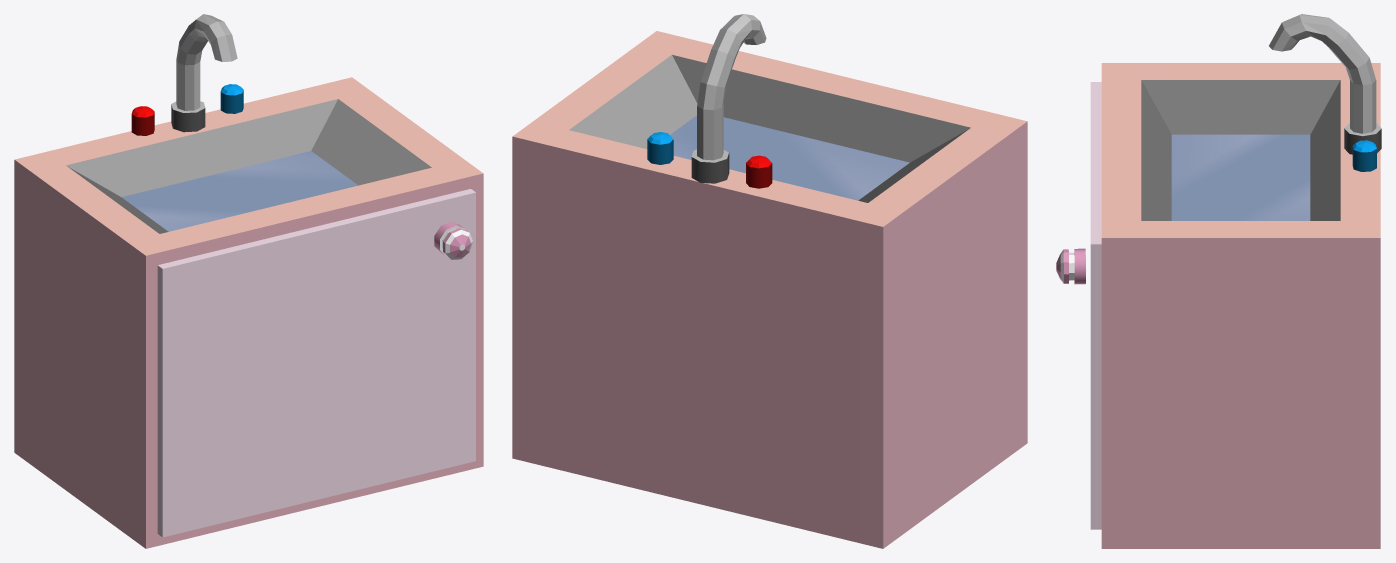
Rendered from Cabinet_Pink_Lower_Sink.fbx.
3 views of the same model, side by side, from view 1: azimuth 30°, elevation 25°; view 2: azimuth 150°, elevation 25°; view 3: azimuth 270°, elevation 25° (orthographic). The views are drawn at different scales.
Visible parts, largest first — view 1: Cabinet_Pink_Lower_Sink, Cabinet_Pink_Lower_Sink.001; view 2: Cabinet_Pink_Lower_Sink; view 3: Cabinet_Pink_Lower_Sink, Cabinet_Pink_Lower_Sink.001.
Part boxes in pixels (box(x1,y1,x2,y2)): Cabinet_Pink_Lower_Sink: box(14, 14, 483, 548); Cabinet_Pink_Lower_Sink.001: box(157, 189, 475, 537); Cabinet_Pink_Lower_Sink: box(512, 14, 1027, 548); Cabinet_Pink_Lower_Sink: box(1101, 14, 1381, 548); Cabinet_Pink_Lower_Sink.001: box(1056, 82, 1101, 529).
Bounding box in the file's own units: 100 × 119 × 78.69.
